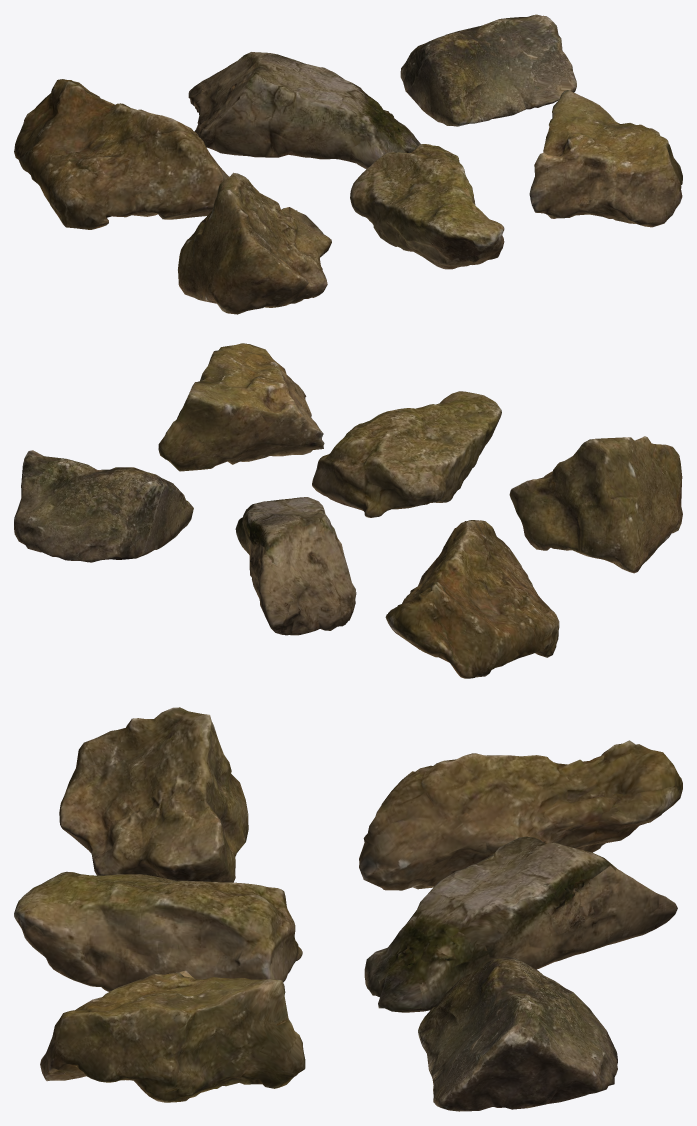
File: rock_moss.glb
The picture shows the model from 3 angles, top to bottom: view 1: azimuth 30°, elevation 25°; view 2: azimuth 150°, elevation 25°; view 3: azimuth 270°, elevation 25°; orthographic projection. The views are drawn at different scales.
Visible parts, largest first — view 1: rock_moss_set_01_rock01, rock_moss_set_01_rock02, rock_moss_set_01_rock06, rock_moss_set_01_rock04, rock_moss_set_01_rock03, rock_moss_set_01_rock05; view 2: rock_moss_set_01_rock04, rock_moss_set_01_rock01, rock_moss_set_01_rock05, rock_moss_set_01_rock03, rock_moss_set_01_rock06, rock_moss_set_01_rock02; view 3: rock_moss_set_01_rock01, rock_moss_set_01_rock02, rock_moss_set_01_rock05, rock_moss_set_01_rock04, rock_moss_set_01_rock06, rock_moss_set_01_rock03.
Boxes of the visible parts, x1,y1,x2,y2 form: rock_moss_set_01_rock01: (14, 79, 228, 229); rock_moss_set_01_rock02: (188, 52, 420, 169); rock_moss_set_01_rock06: (529, 90, 682, 227); rock_moss_set_01_rock04: (178, 172, 331, 314); rock_moss_set_01_rock03: (400, 14, 576, 126); rock_moss_set_01_rock05: (350, 144, 504, 269); rock_moss_set_01_rock04: (509, 436, 682, 573); rock_moss_set_01_rock01: (385, 520, 559, 678); rock_moss_set_01_rock05: (312, 391, 501, 517); rock_moss_set_01_rock03: (14, 450, 193, 562); rock_moss_set_01_rock06: (158, 343, 324, 471); rock_moss_set_01_rock02: (235, 497, 356, 635); rock_moss_set_01_rock01: (359, 740, 682, 890); rock_moss_set_01_rock02: (364, 836, 677, 1012); rock_moss_set_01_rock05: (14, 871, 302, 991); rock_moss_set_01_rock04: (59, 707, 248, 882); rock_moss_set_01_rock06: (40, 970, 305, 1102); rock_moss_set_01_rock03: (418, 956, 617, 1111).
Bounding box in the file's own units: 8 × 1.76 × 6.94.
Materials: 1 (1 with a texture image).
